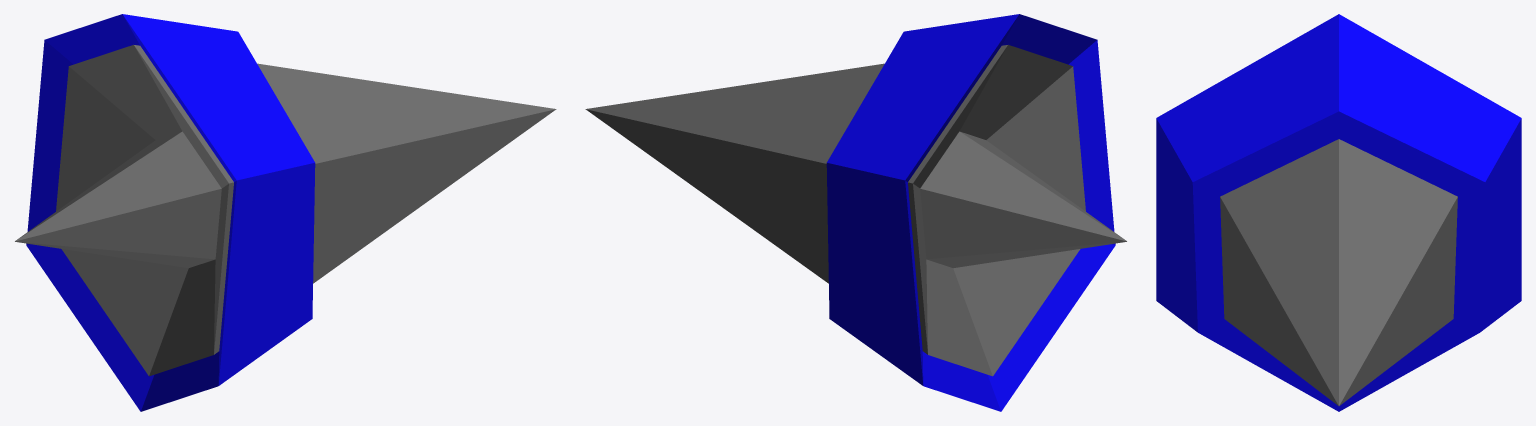
File: player_model2.fbx
3 views of the same model, side by side, from view 1: azimuth 30°, elevation 25°; view 2: azimuth 150°, elevation 25°; view 3: azimuth 270°, elevation 25° (orthographic). The views are drawn at different scales.
Parts seen in each view (by area): view 1: Body.001, Rim.001, Thruster.001; view 2: Body.001, Rim.001, Thruster.001; view 3: Rim.001, Body.001.
Part boxes in pixels (box(x1,y1,x2,y2)): Body.001: box(56, 45, 556, 376); Rim.001: box(26, 14, 315, 411); Thruster.001: box(15, 131, 221, 268); Body.001: box(585, 45, 1085, 376); Rim.001: box(826, 14, 1115, 411); Thruster.001: box(920, 131, 1126, 268); Rim.001: box(1156, 14, 1521, 411); Body.001: box(1220, 139, 1457, 405).
Bounding box in the file's own units: 553 × 392 × 339.
